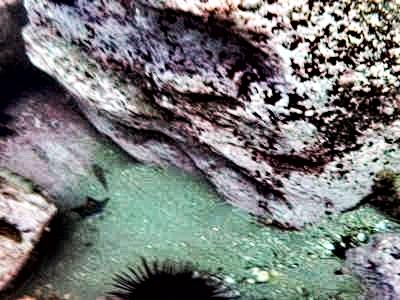urchin: (102, 256, 227, 294)
